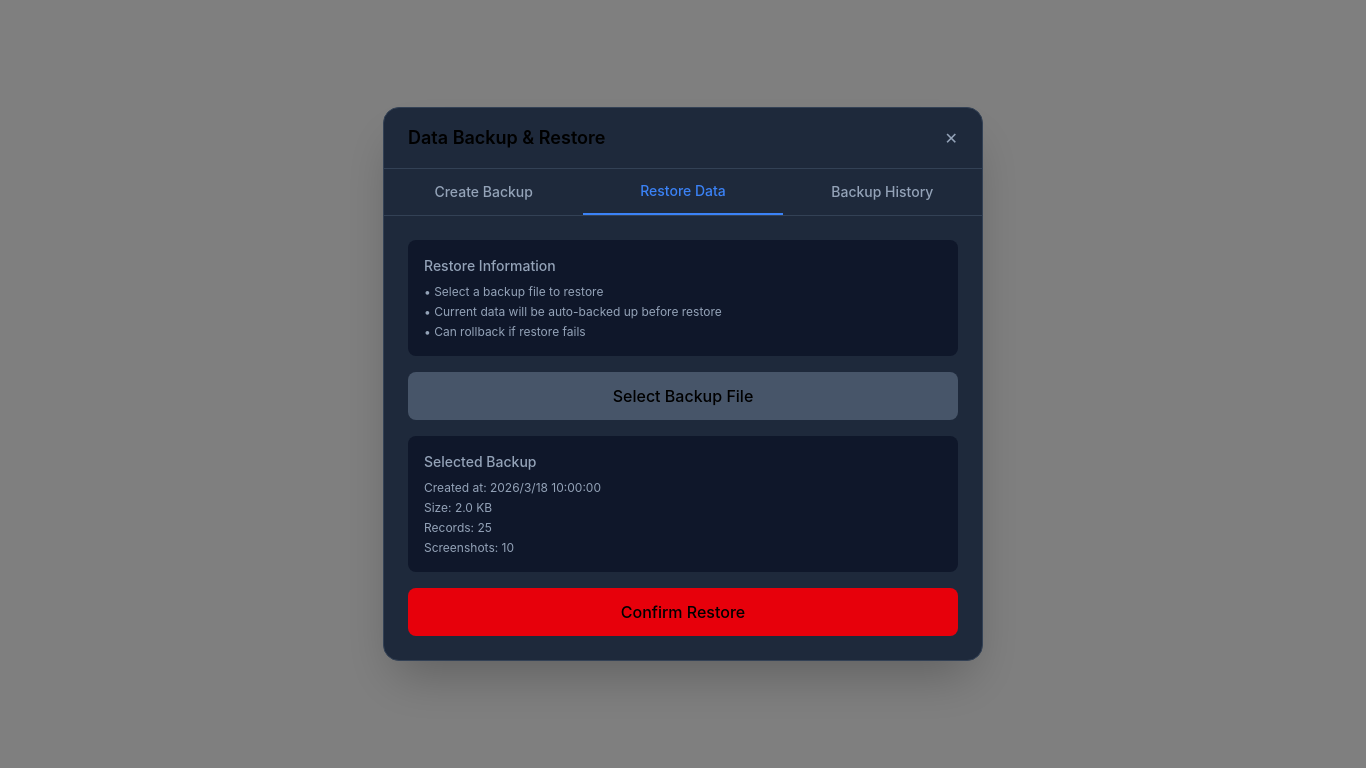
BackupModal › Restore Tab › shows confirmation dialog when confirm button is clicked
Click the button "Confirm Restore" at point(683, 612), box [408, 588, 958, 636]
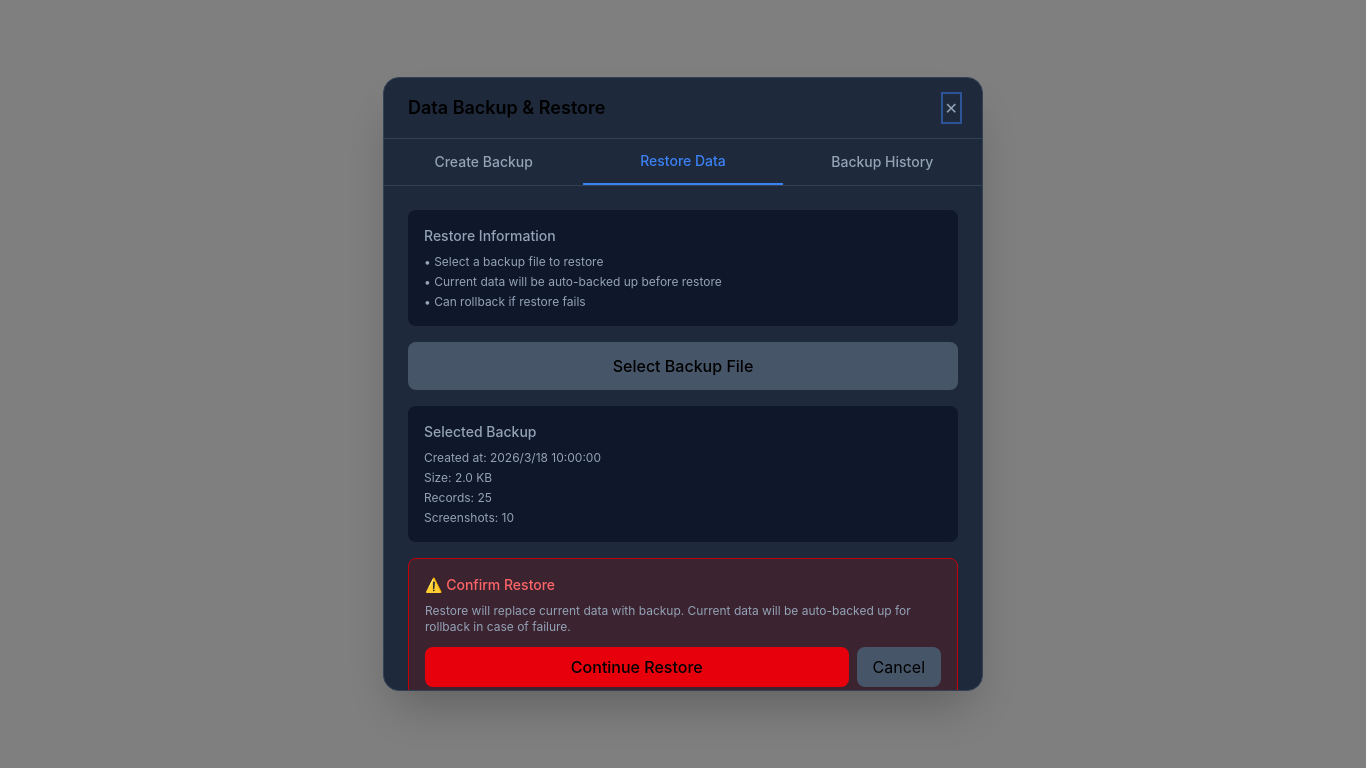
Expected: the text "Confirm Restore" is shown, [425, 576, 555, 593]
Expected: the text "Restore will replace current data" is shown, [425, 603, 911, 634]
